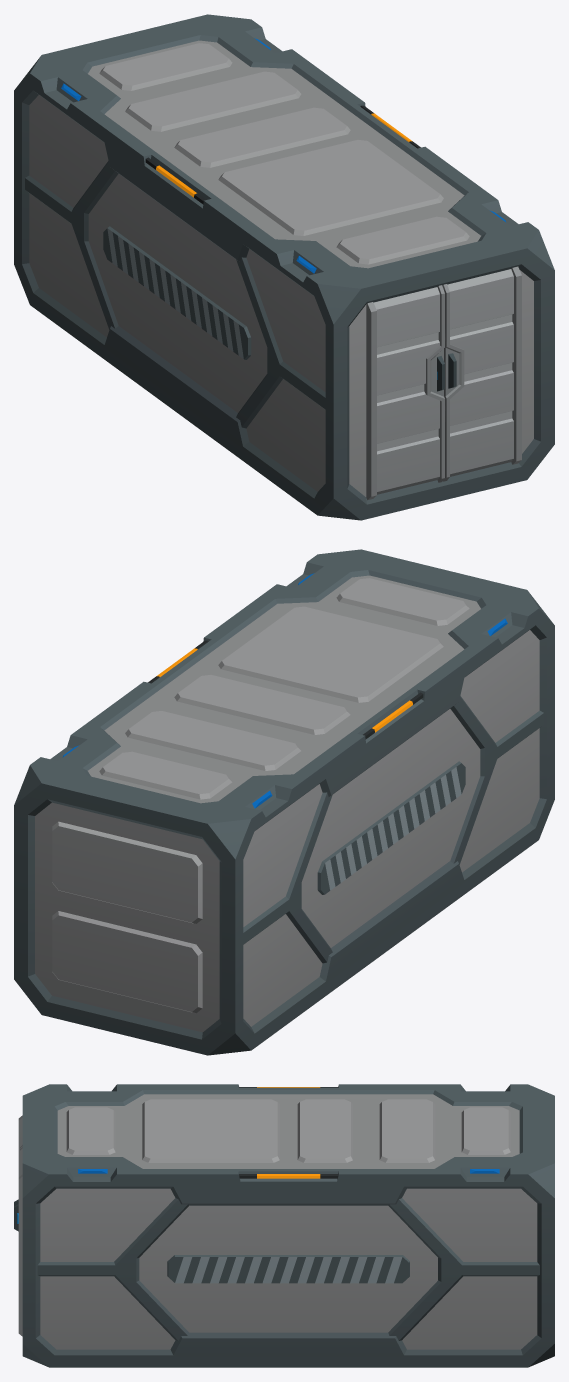
Rendered from Container_type_A_008.glb.
3 views of the same model, one above another, from view 1: azimuth 30°, elevation 25°; view 2: azimuth 150°, elevation 25°; view 3: azimuth 270°, elevation 25° (orthographic). The views are drawn at different scales.
Parts seen in each view (by area): view 1: Container_type_A_008, Container_type_A_door_013, Container_type_A_door_012; view 2: Container_type_A_008; view 3: Container_type_A_008, Container_type_A_door_012.
Boxes of the visible parts, x1,y1,x2,y2 form: Container_type_A_008: (14,14,554,520); Container_type_A_door_013: (366,285,444,500); Container_type_A_door_012: (442,266,521,481); Container_type_A_008: (14,549,554,1055); Container_type_A_008: (22,1084,554,1367); Container_type_A_door_012: (14,1147,22,1336).
Bounding box in the file's own units: 2.4 × 2.41 × 6.1.
2 materials, 2 textured.
